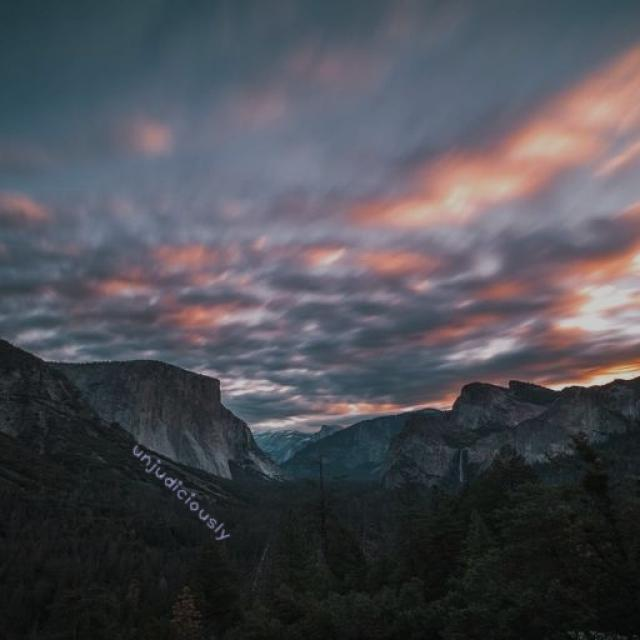watermark: (124, 436, 236, 546)
